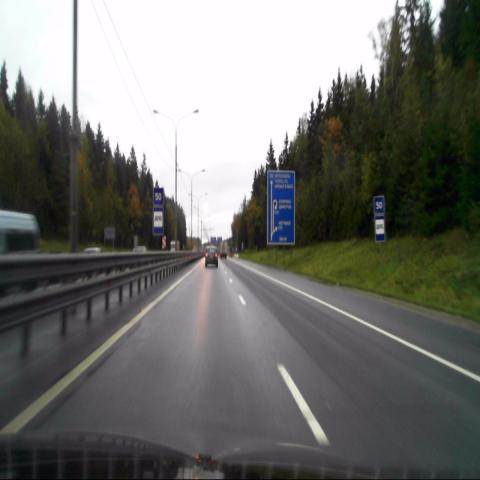7_12: (374, 215, 386, 242), (153, 208, 163, 235)
